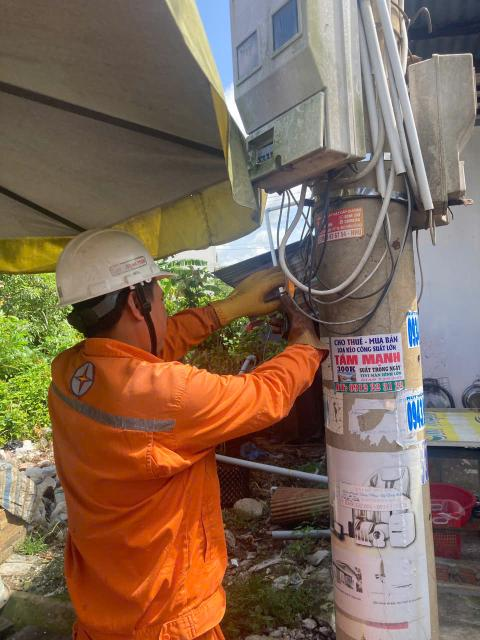gloves: (202, 250, 285, 335), (264, 288, 336, 367)
helmet: (43, 220, 181, 312)
